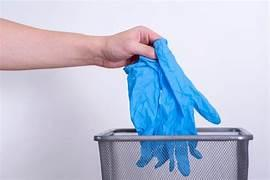Glove: (125, 39, 219, 134)
